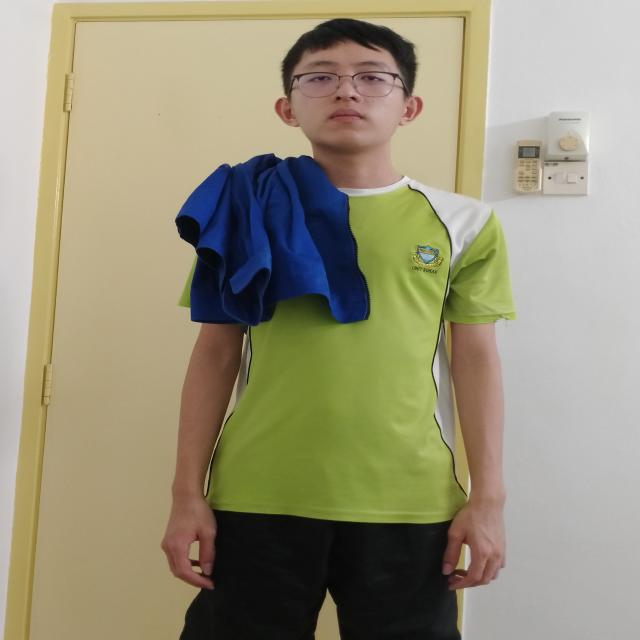person_without_labcoat: (162, 19, 514, 640)
